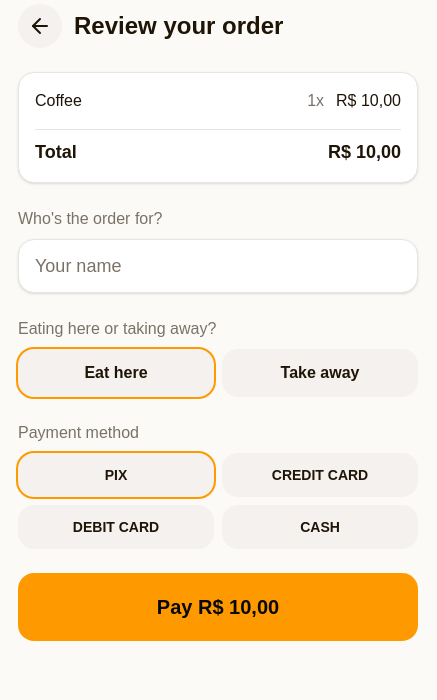
Scenario: CheckoutView name at payment › refuses to pay without a name and shows an error
This screenshot has width=437, height=700.
Click the button "Pay R$ 10,00" at x=218, y=607, box [18, 573, 418, 641]
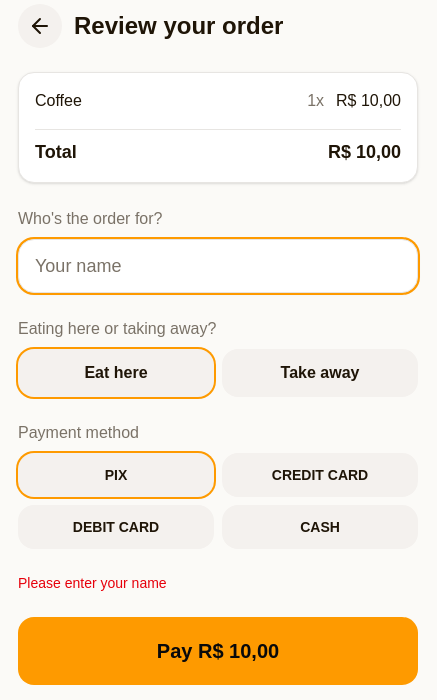
Expected: the text "Please enter your name" is shown, [18, 575, 167, 591]
